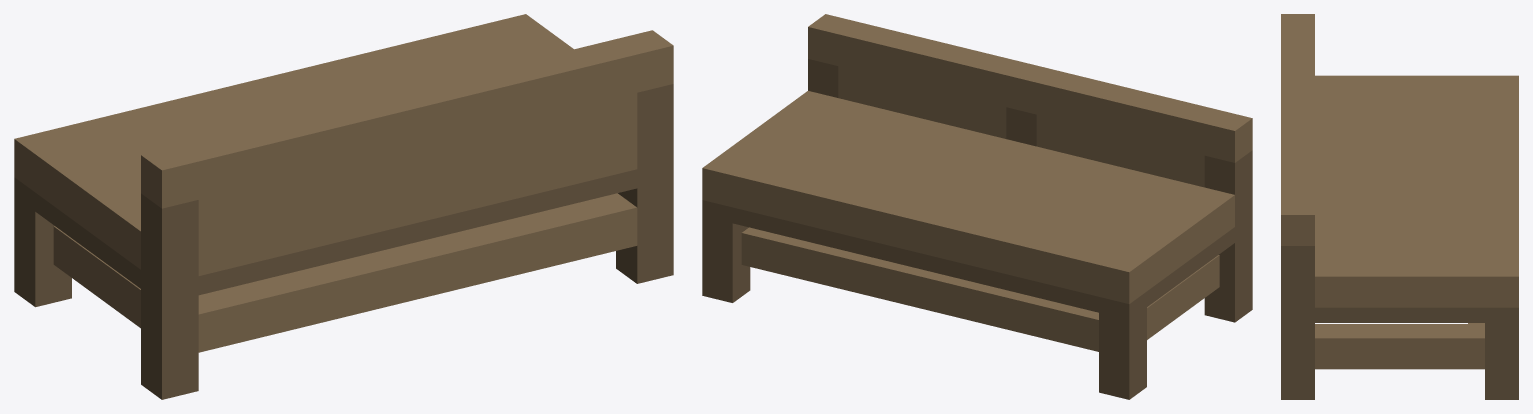
File: banco_roble_doble_01.glb
3 renders of one model, left to right at view 1: azimuth 30°, elevation 25°; view 2: azimuth 150°, elevation 25°; view 3: azimuth 270°, elevation 25°, orthographic. The views are drawn at different scales.
Parts seen in each view (by area): view 1: banco_roble_doble; view 2: banco_roble_doble; view 3: banco_roble_doble.
Part boxes in pixels (x1,y1,x2,y2): banco_roble_doble: (14, 14, 673, 399); banco_roble_doble: (702, 14, 1252, 399); banco_roble_doble: (1281, 14, 1518, 399).
Size of the model in its own units: 2 by 0.8571 by 1.
